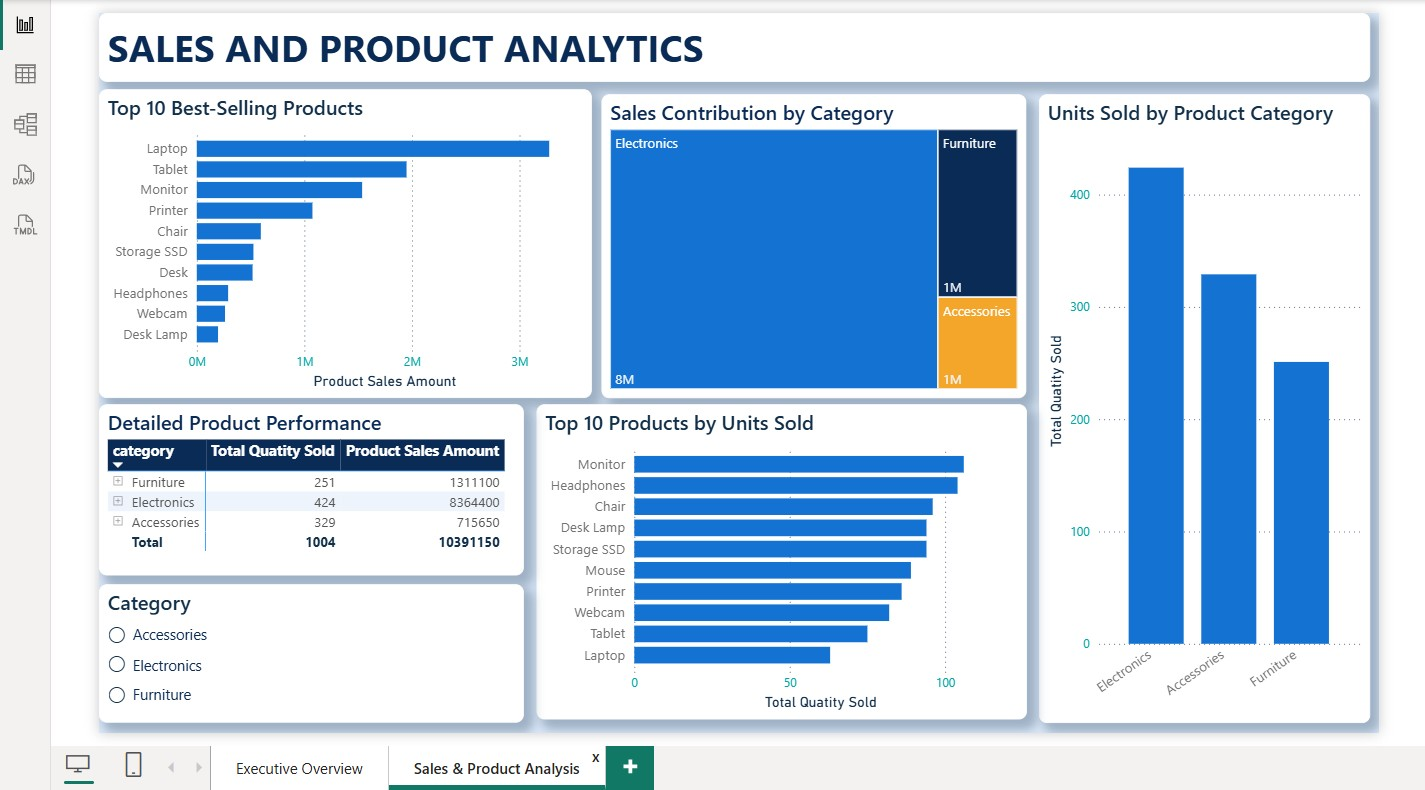

The dashboard page shown, as its layout file describes it:
{"tool":"powerbi","page":{"name":"Sales & Product Analysis","canvas":[1280,720],"ordinal":1},"visuals":[{"type":"textbox","box":[0,0,1271.2,68.8],"z":0},{"type":"clusteredBarChart","title":"Top 10 Best-Selling Products","fields":{"Category":["products.product_name"],"Y":["products.Product Sales Amount"]},"box":[0,76.2,492.5,308.8],"z":1000},{"type":"treemap","title":"Sales Contribution by Category","fields":{"Group":["products.category"],"Values":["products.Product Sales Amount"]},"box":[502.5,81.2,425,303.8],"z":2000},{"type":"clusteredColumnChart","title":"Units Sold by Product Category","fields":{"Category":["products.category"],"Y":["customers.Total Quatity Sold"]},"box":[940,81.2,331.2,628.8],"z":3000},{"type":"clusteredBarChart","title":"Top 10  Products by Units Sold","fields":{"Category":["products.product_name"],"Y":["customers.Total Quatity Sold"]},"box":[437.5,391.2,490,315],"z":4000},{"type":"pivotTable","title":"Detailed Product Performance","fields":{"Rows":["products.category","products.product_name"],"Values":["customers.Total Quatity Sold","products.Product Sales Amount"]},"box":[0,391.2,425,171.2],"z":5000},{"type":"listSlicer","title":"Category","fields":{"Values":["products.category"]},"box":[0,571.2,425,138.8],"z":6000}]}

Visuals, with their boxes on the page's 1280x720 design canvas (x1, y1, x2, y2). These are canvas units, not pixel positions in the 1425x790 screenshot, which may show the page scaled, cropped or inside an application window:
textbox: box(0, 0, 1271, 69)
"Top 10 Best-Selling Products" clusteredBarChart: box(0, 76, 492, 385)
"Sales Contribution by Category" treemap: box(502, 81, 928, 385)
"Units Sold by Product Category" clusteredColumnChart: box(940, 81, 1271, 710)
"Top 10  Products by Units Sold" clusteredBarChart: box(438, 391, 928, 706)
"Detailed Product Performance" pivotTable: box(0, 391, 425, 562)
"Category" listSlicer: box(0, 571, 425, 710)
